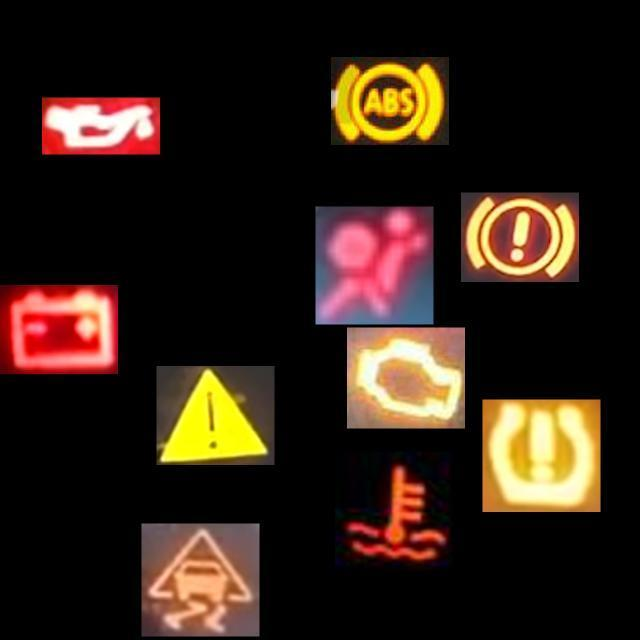Central Warning lamp: (156, 366, 274, 465)
Engine cooling system: (335, 452, 453, 570)
